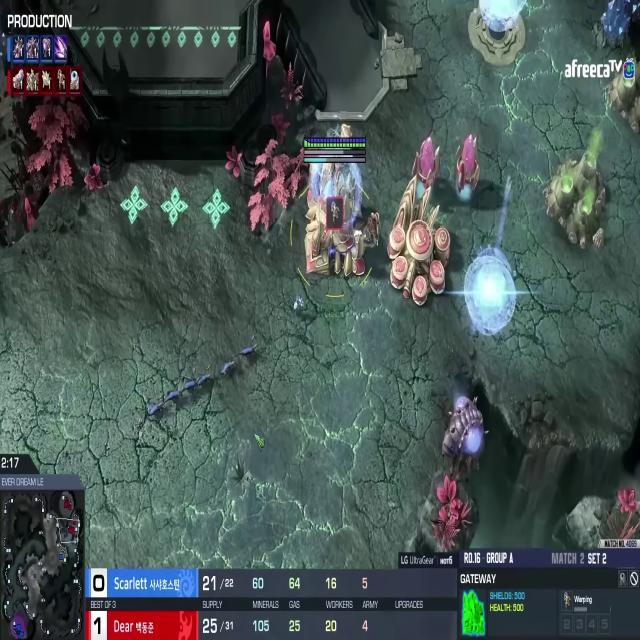overlord: (436, 382, 492, 493)
zealot: (362, 203, 382, 256)
zergling: (236, 336, 262, 367), (143, 392, 166, 426), (216, 347, 238, 382), (194, 361, 215, 394), (164, 378, 183, 408), (179, 371, 198, 400)
